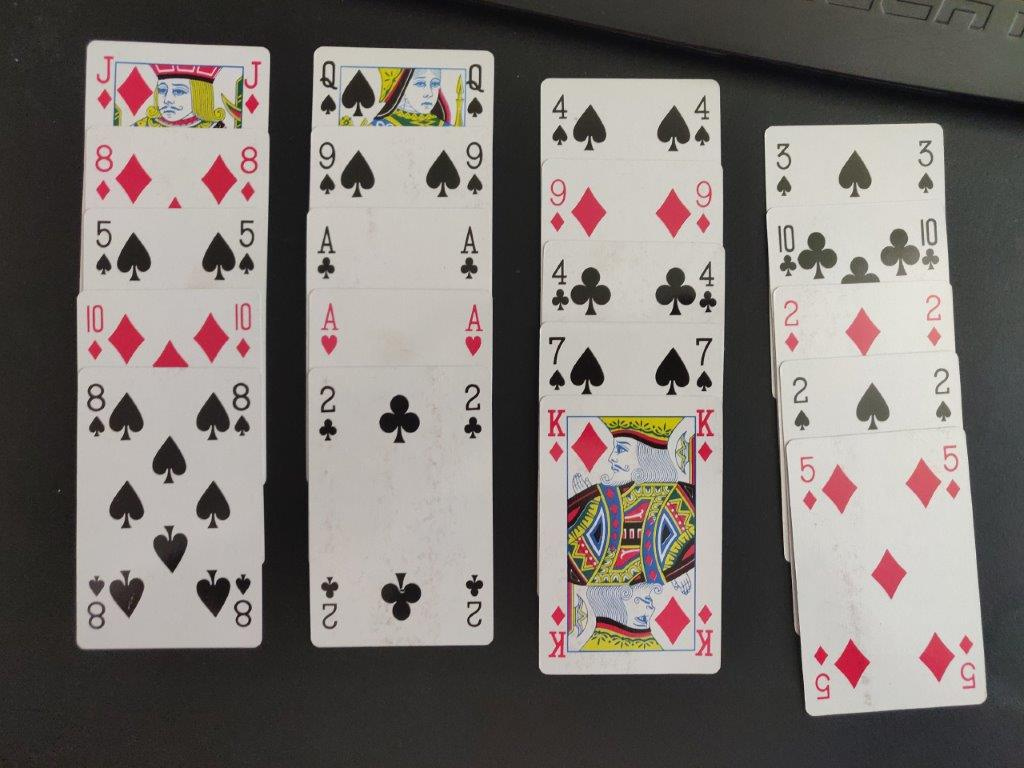10C: (773, 218, 802, 280), (915, 211, 942, 276)
10D: (80, 299, 109, 366), (231, 296, 258, 364)
2C: (312, 380, 344, 449), (457, 379, 485, 442)
2D: (777, 290, 807, 358), (920, 288, 946, 353)
2S: (927, 364, 958, 430), (785, 372, 815, 434)
3S: (770, 136, 801, 205), (912, 133, 937, 200)
4C: (694, 255, 720, 322), (547, 253, 571, 317)
4S: (547, 87, 573, 153), (690, 91, 715, 152)
5D: (793, 452, 826, 515), (938, 439, 966, 505)
5S: (90, 215, 120, 280), (235, 214, 260, 283)
7S: (690, 330, 719, 398), (545, 330, 569, 397)
8D: (87, 139, 119, 203), (237, 142, 263, 206)
8S: (81, 376, 112, 441), (227, 378, 257, 443)
9D: (691, 175, 719, 237), (544, 174, 571, 235)
9S: (461, 137, 488, 200), (315, 136, 340, 199)
AC: (312, 220, 340, 287), (457, 223, 481, 286)
AH: (315, 298, 345, 364), (461, 301, 488, 363)
JD: (88, 49, 119, 115), (239, 55, 265, 120)
KD: (544, 400, 568, 464), (695, 404, 719, 464)
QS: (315, 57, 344, 122), (464, 59, 488, 122)
